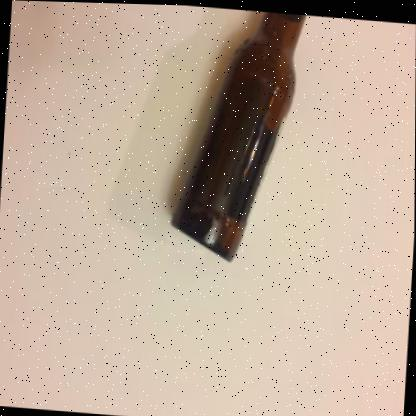Glass: (171, 9, 304, 258)
